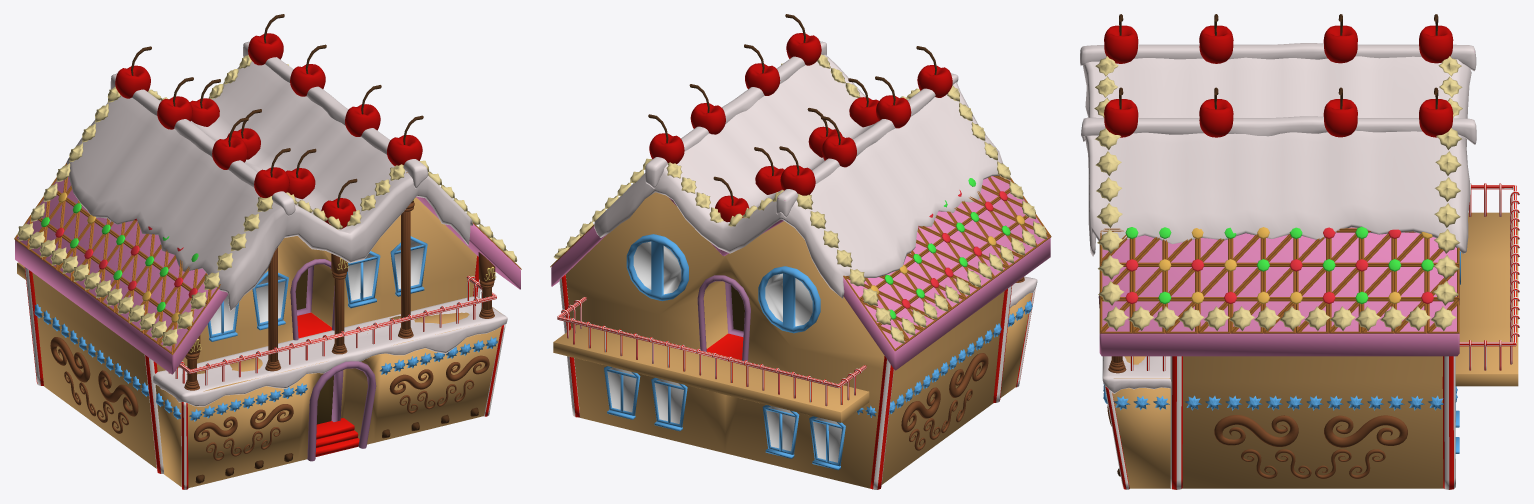
The model's file is candy.fbx.
3 views of the same model, side by side, from view 1: azimuth 30°, elevation 25°; view 2: azimuth 150°, elevation 25°; view 3: azimuth 270°, elevation 25° (orthographic). The views are drawn at different scales.
Visible parts, largest first — view 1: Cube, Cube.001; view 2: Cube, Cube.001; view 3: Cube.
Part boxes in pixels (x1,y1,x2,y2): Cube: (14,14,521,489); Cube.001: (285,148,316,199); Cube: (550,14,1051,489); Cube.001: (807,108,842,157); Cube: (1080,14,1519,489).
Size of the model in its own units: 406 by 348 by 384.
